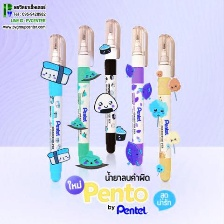correction_fluid: (153, 31, 177, 185), (45, 31, 68, 183), (127, 22, 150, 168), (74, 22, 95, 166), (101, 16, 122, 157)
